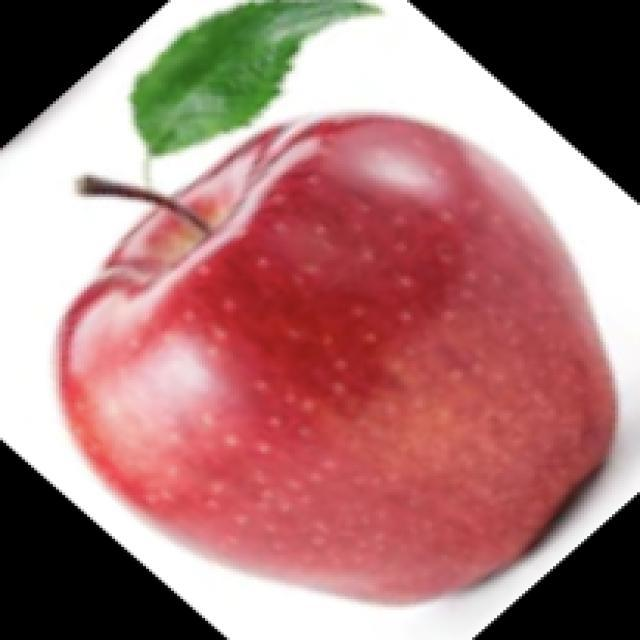Apple: (54, 110, 618, 605)
